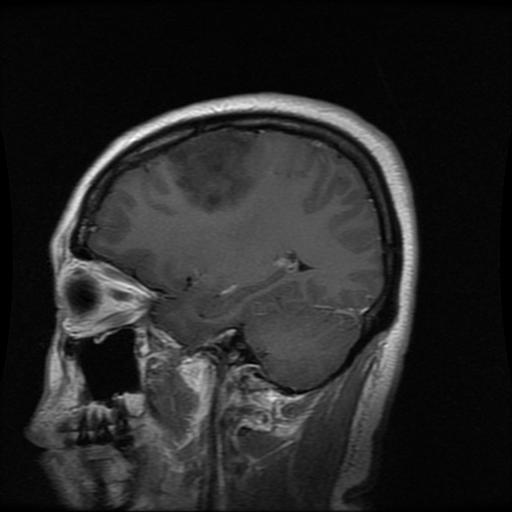Gliomia_tumour: (170, 127, 255, 210)
